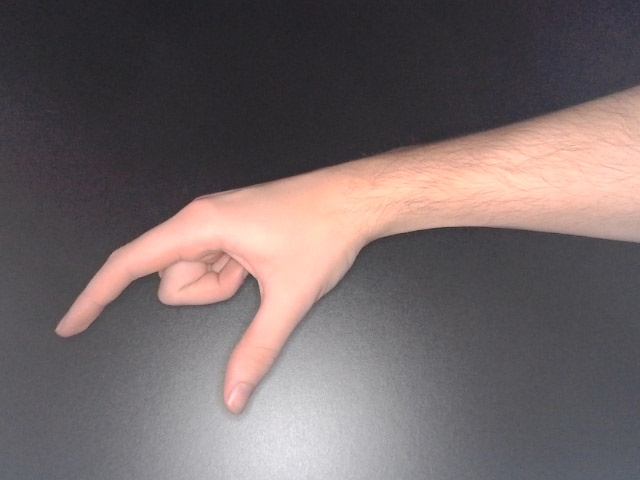q: (52, 160, 427, 422)
